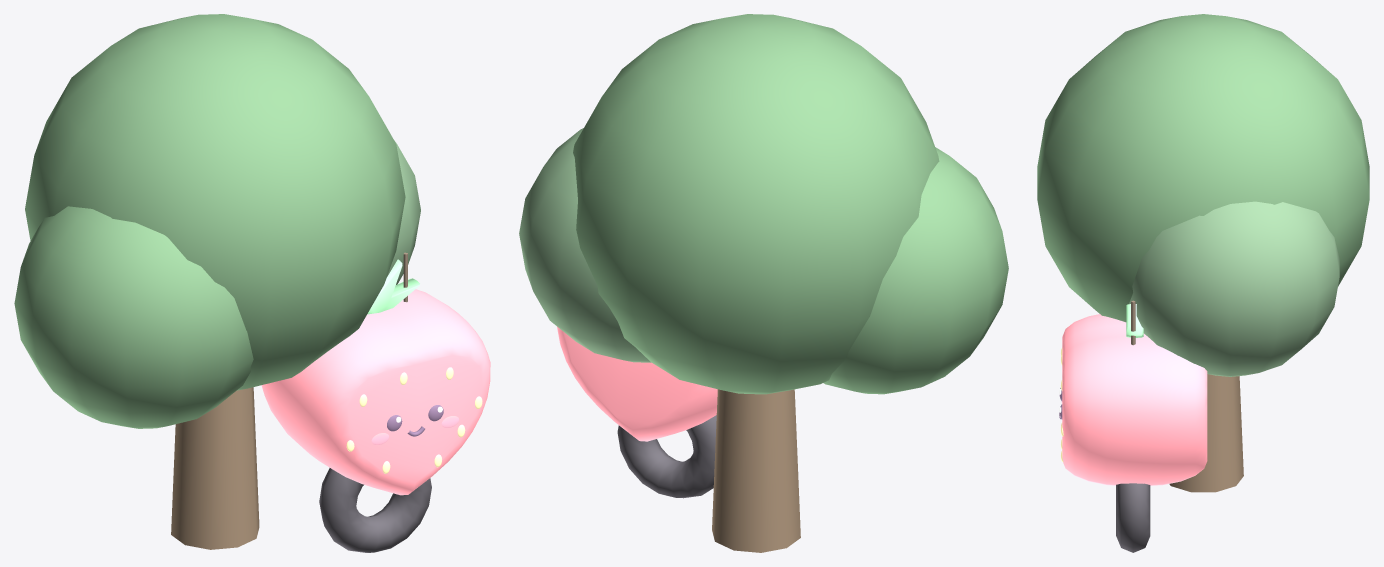
File: life_strawberry.glb
3 renders of one model, left to right at view 1: azimuth 30°, elevation 25°; view 2: azimuth 150°, elevation 25°; view 3: azimuth 270°, elevation 25°, orthographic. The views are drawn at different scales.
Visible parts, largest first — view 1: life_strawberry, wrap_strawberry_1; view 2: life_strawberry, wrap_strawberry_1; view 3: life_strawberry, wrap_strawberry_1.
Part boxes in pixels (<box>): life_strawberry: <box>14,14,431,552</box>; wrap_strawberry_1: <box>261,259,490,495</box>; life_strawberry: <box>519,14,1008,552</box>; wrap_strawberry_1: <box>557,326,717,441</box>; life_strawberry: <box>1037,14,1369,552</box>; wrap_strawberry_1: <box>1059,304,1207,485</box>.
Size of the model in its own units: 5.58 by 6.58 by 4.26.
